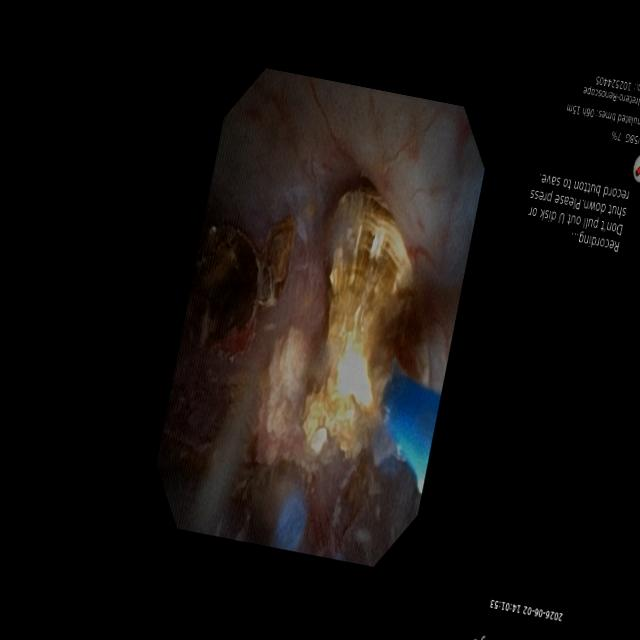laser-fibre: (368, 364, 391, 413)
stone-new: (304, 189, 430, 457), (190, 219, 294, 357)
